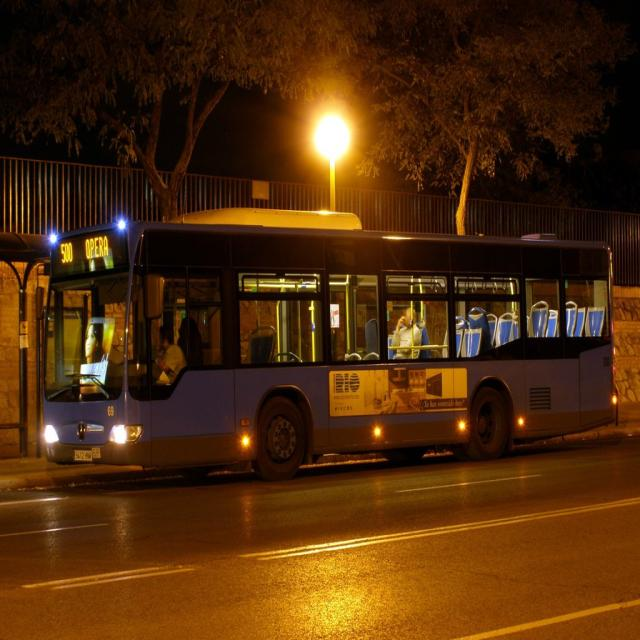Bus: (32, 205, 618, 484)
